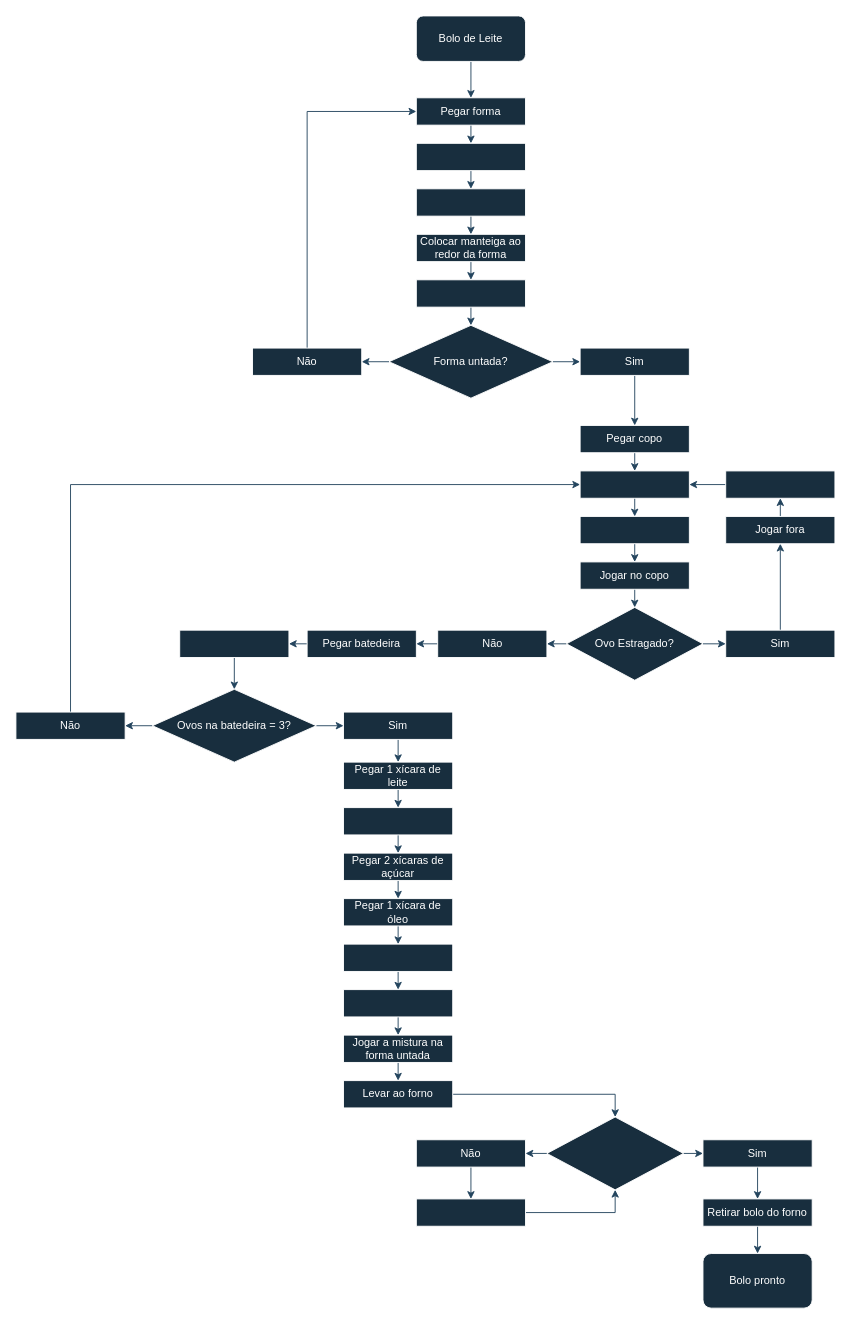
Some shapes in this 851 by 1324 pixel diagram are drawn without their labels. The shapes that lost their labels are listed below. From the top down, each one's centre as x and y in pixels, then its label:
At [470,156]: "Pegar manteiga".
At [470,202]: "Pegar farinha".
At [470,293]: "Colocar farinha ao redor da forma".
At [634,484]: "Pegar ovo".
At [780,484]: "Lavar copo".
At [634,530]: "Quebrar ovo".
At [234,643]: "Jogar ovo na batedeira".
At [398,821]: "Pegar 3 xícaras de farinha de trigo".
At [398,957]: "Colocar todos na batedeira".
At [398,1003]: "Bater ingredientes".
At [614,1153]: "30 minutos no forno?".
At [470,1212]: "Espere".
